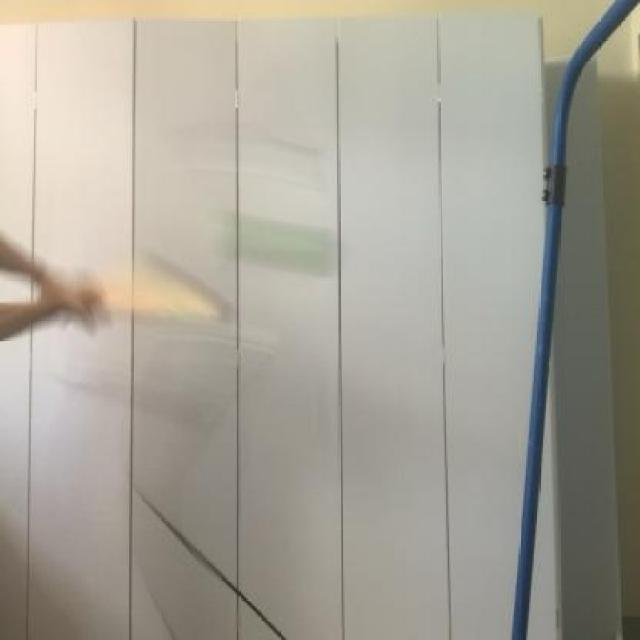baseball: (226, 201, 351, 288)
